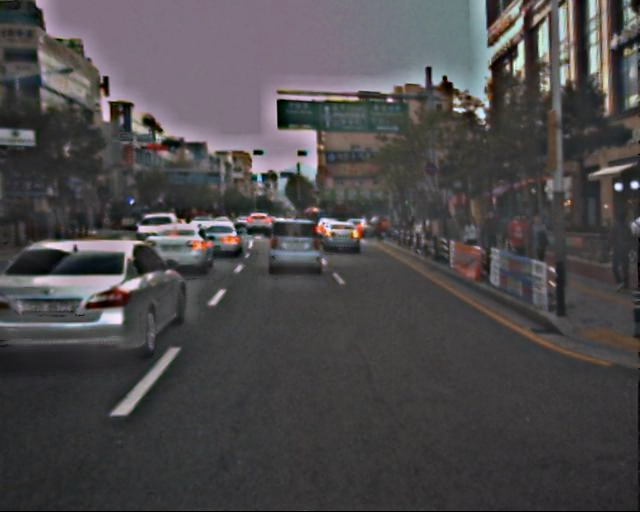person: (602, 214, 635, 294), (524, 215, 553, 285), (504, 214, 529, 275), (481, 209, 506, 269), (461, 217, 483, 270)
